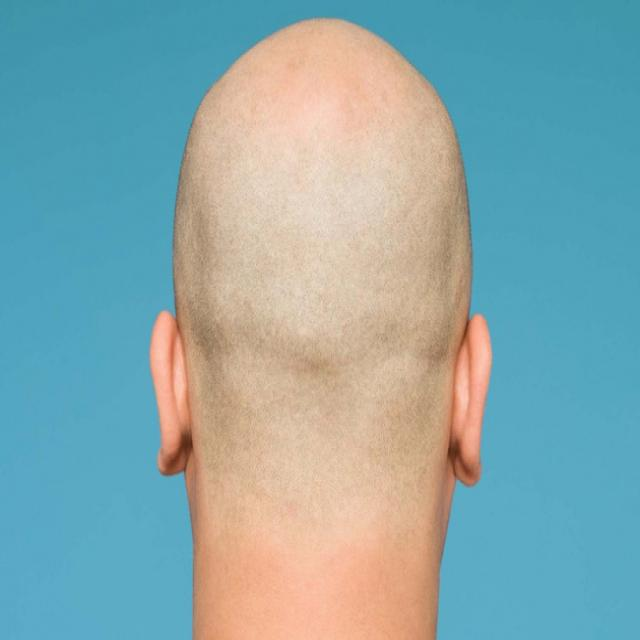Nonhelmet: (141, 14, 502, 634)
